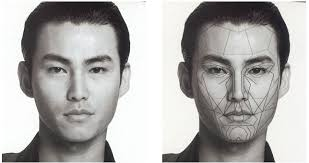asian_male: (13, 1, 152, 159)
